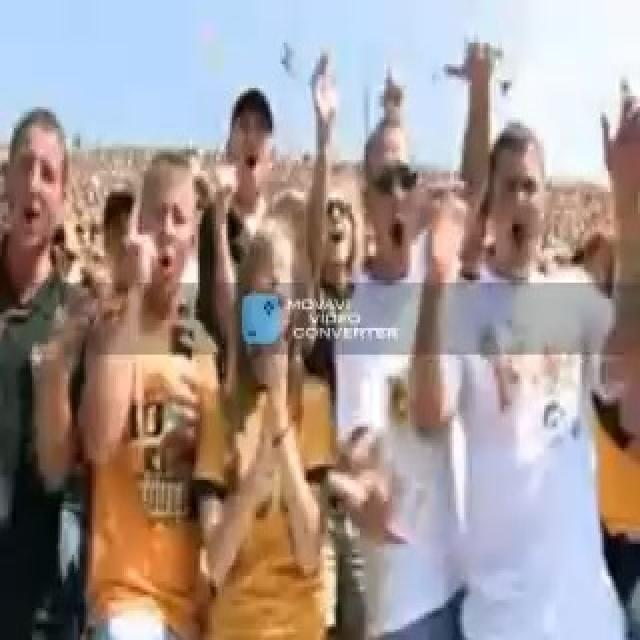non-voilence: (2, 35, 638, 637), (76, 150, 232, 638)
